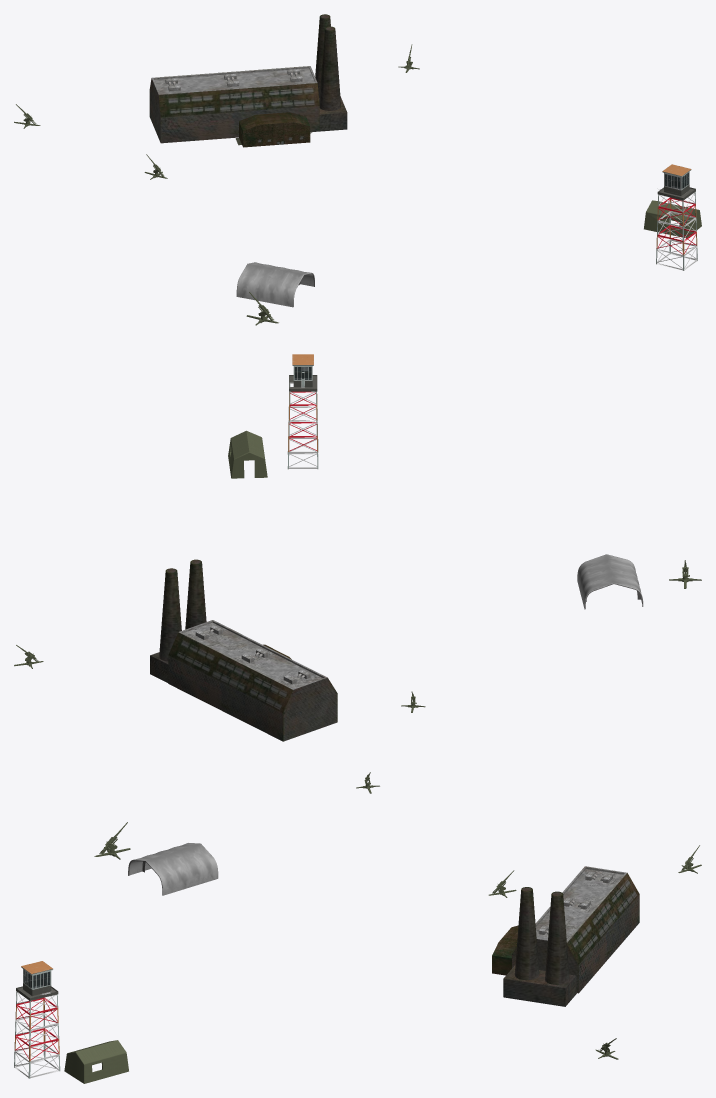
File: Voronezh.glb
3 renders of one model, top to bottom at view 1: azimuth 30°, elevation 25°; view 2: azimuth 150°, elevation 25°; view 3: azimuth 270°, elevation 25°, orthographic. The views are drawn at different scales.
Visible parts, largest first — view 1: defaultMaterial, defaultMaterial.263, clothBuilding001_Material #67_0, Box001_Main Tent_0; view 2: defaultMaterial, defaultMaterial.263, clothBuilding001_Material #67_0, Box001_Main Tent_0; view 3: defaultMaterial, defaultMaterial.263, clothBuilding001_Material #67_0, Box001_Main Tent_0.
Part boxes in pixels (<box>): defaultMaterial: <box>149,14,347,147</box>; defaultMaterial.263: <box>656,164,697,270</box>; clothBuilding001_Material #67_0: <box>236,262,314,307</box>; Box001_Main Tent_0: <box>644,200,701,237</box>; defaultMaterial: <box>150,559,337,741</box>; defaultMaterial.263: <box>287,354,318,469</box>; clothBuilding001_Material #67_0: <box>577,554,643,609</box>; Box001_Main Tent_0: <box>228,430,267,478</box>; defaultMaterial: <box>492,866,639,1006</box>; defaultMaterial.263: <box>14,961,60,1078</box>; clothBuilding001_Material #67_0: <box>128,843,218,895</box>; Box001_Main Tent_0: <box>64,1040,128,1083</box>.
Bounding box in the file's own units: 206 × 45.94 × 254.
16 materials, 6 textured.
